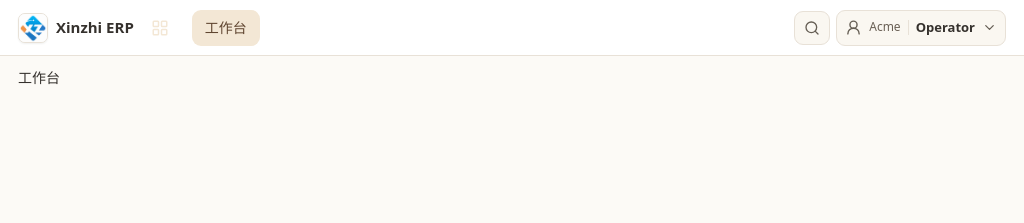
AppShell logout routing › routes the customer-service switcher through ERP shared sign-in
Click the button named "切换应用" at (160, 28), box [138,6,182,50]
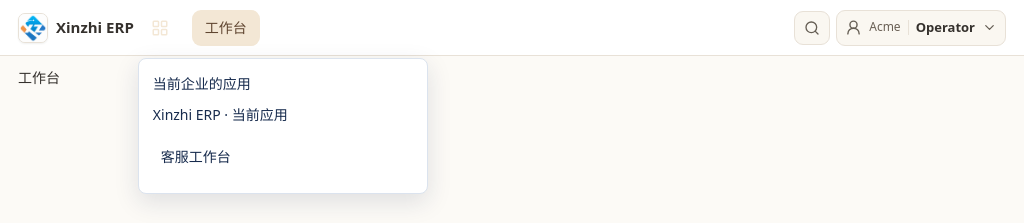
Press Escape
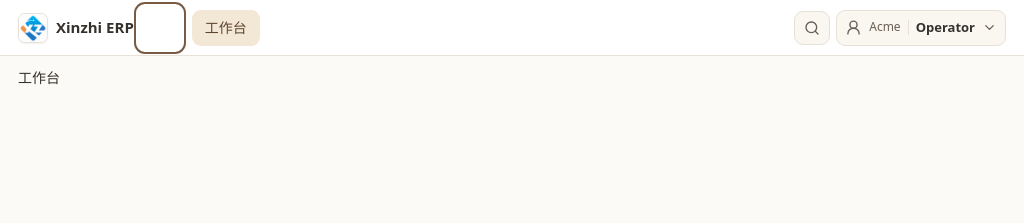
Check: the navigation bar "业务应用" is gone
